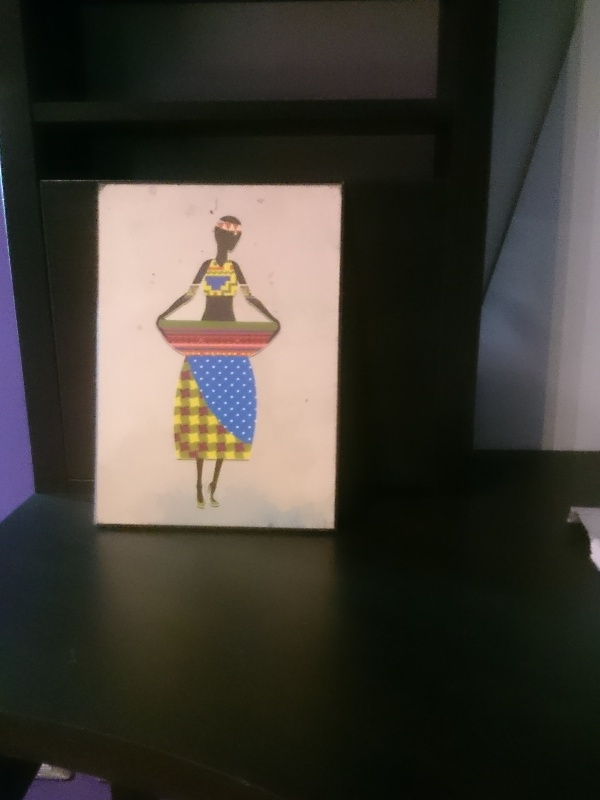my image: (92, 189, 340, 523)
